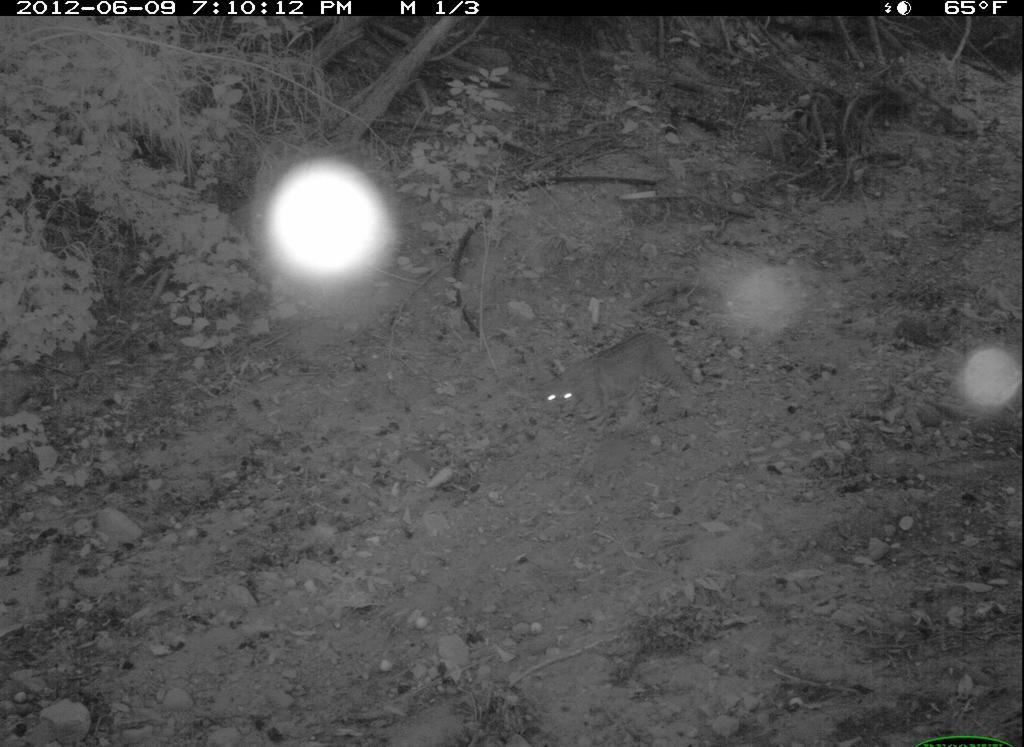bobcat: (536, 325, 699, 486)
